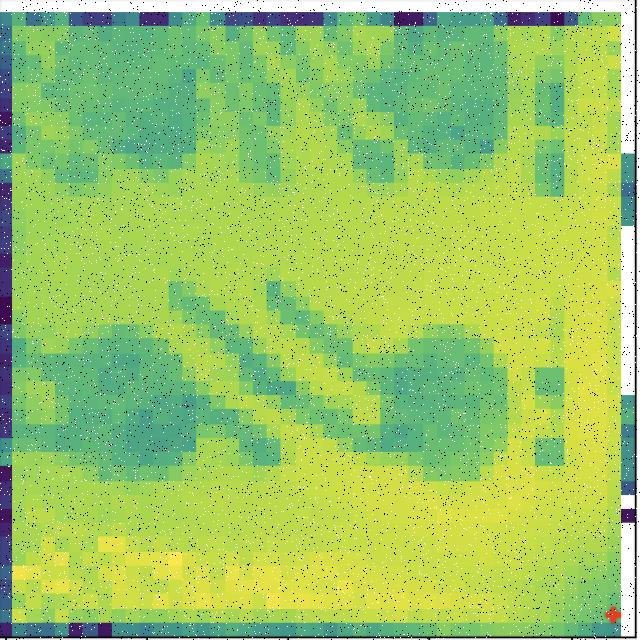Concrete: (371, 30, 514, 172)
Glass: (54, 32, 205, 170)
Metal: (367, 314, 517, 486)
Wood: (51, 320, 210, 493)
